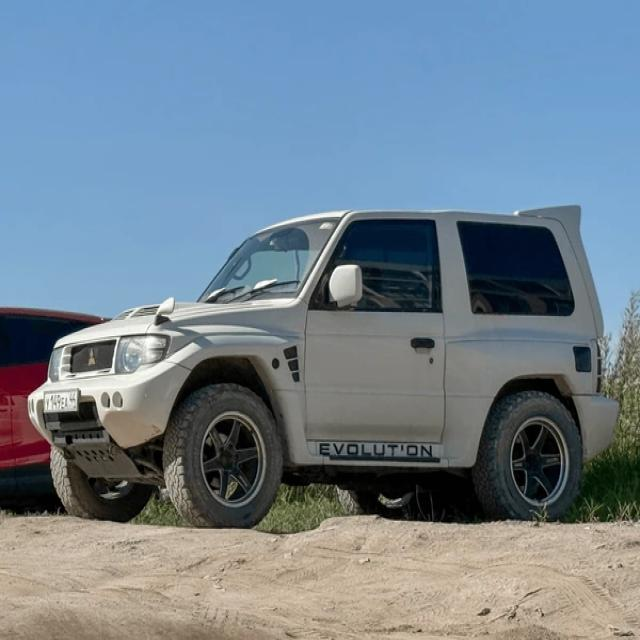mitsubishi: (82, 346, 101, 370)
